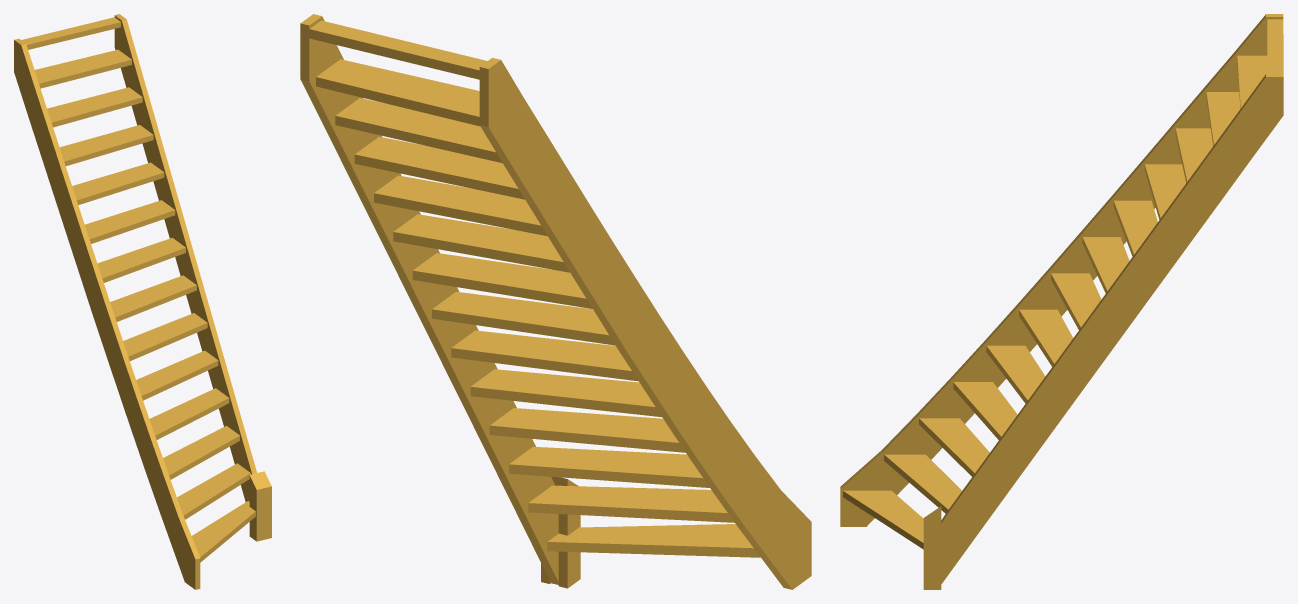
The model's file is stairs.glb.
3 views of the same model, side by side, from view 1: azimuth 30°, elevation 25°; view 2: azimuth 150°, elevation 25°; view 3: azimuth 270°, elevation 25° (orthographic). The views are drawn at different scales.
Visible parts, largest first — view 1: Drawing2; view 2: Drawing2; view 3: Drawing2.
Part boxes in pixels (x1,y1,x2,y2): Drawing2: (14,14,271,589); Drawing2: (300,14,811,589); Drawing2: (840,14,1283,589).
Size of the model in its own units: 1.25 by 4.53 by 3.57.
